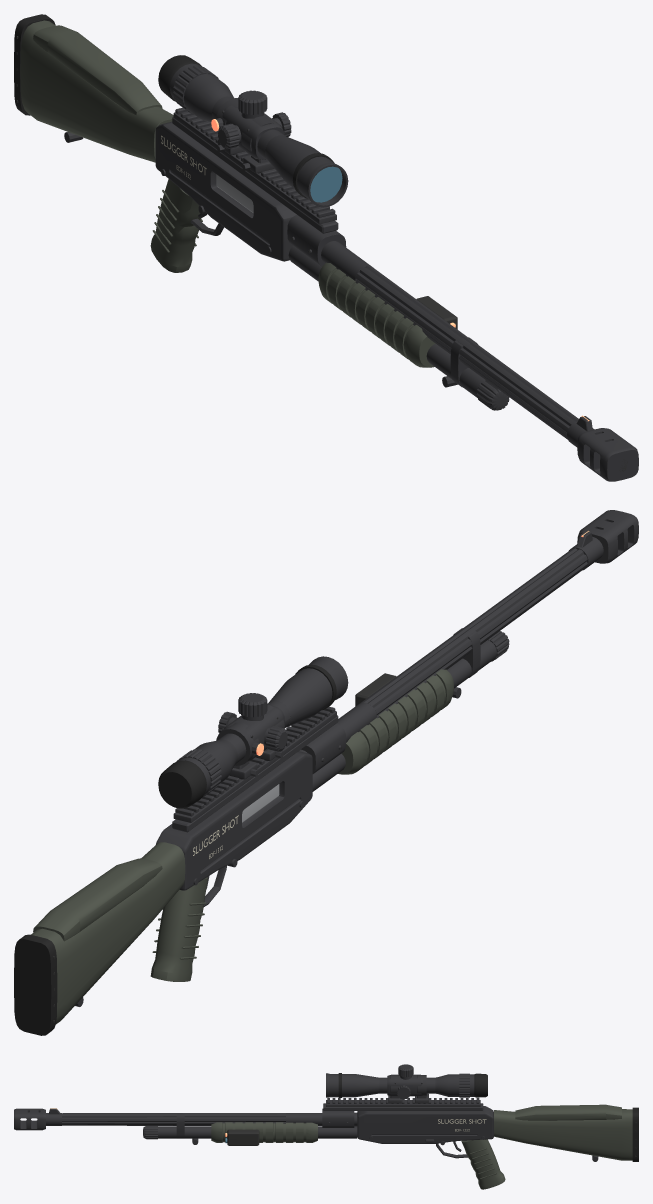
Rendered from slugshot.glb.
The picture shows the model from 3 angles, top to bottom: view 1: azimuth 30°, elevation 25°; view 2: azimuth 150°, elevation 25°; view 3: azimuth 270°, elevation 25°; orthographic projection. The views are drawn at different scales.
Visible parts, largest first — view 1: Body; view 2: Body; view 3: Body, opt_laser.
Part boxes in pixels (x1,y1,x2,y2): Body: (14,14,638,481); Body: (14,510,638,1035); Body: (14,1064,638,1189); opt_laser: (225,1129,259,1145).
Bounding box in the file's own units: 0.0778 × 0.2502 × 1.17.
